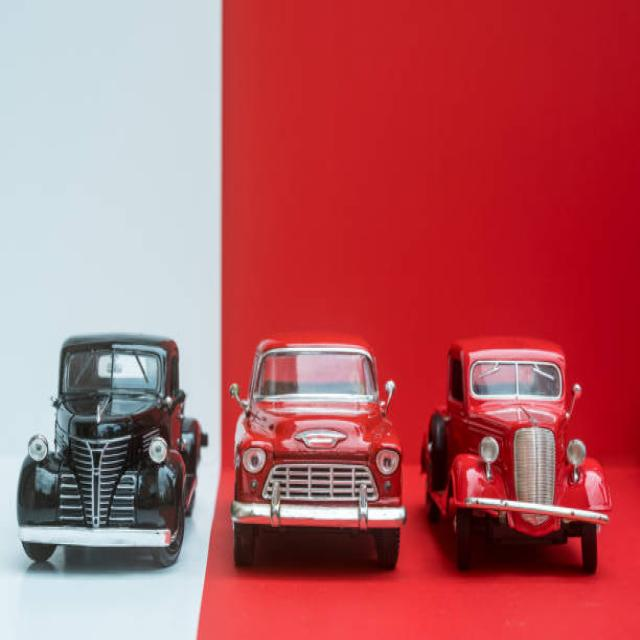Car: (419, 334, 612, 574), (16, 332, 208, 567), (228, 338, 407, 570)
